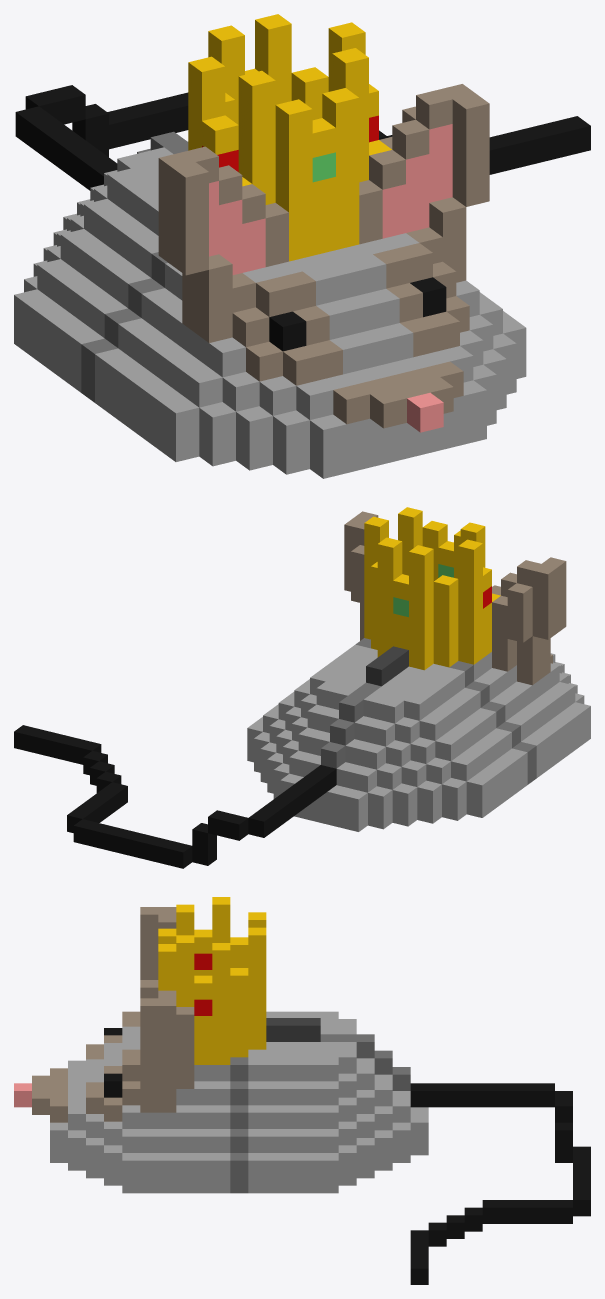
File: Mouse_King Mao_evolved.obj
The picture shows the model from 3 angles, top to bottom: view 1: azimuth 30°, elevation 25°; view 2: azimuth 150°, elevation 25°; view 3: azimuth 270°, elevation 25°; orthographic projection. The views are drawn at different scales.
Bounding box in the file's own units: 2.7 × 1.3 × 3.2.
Materials: 1 (1 with a texture image).
